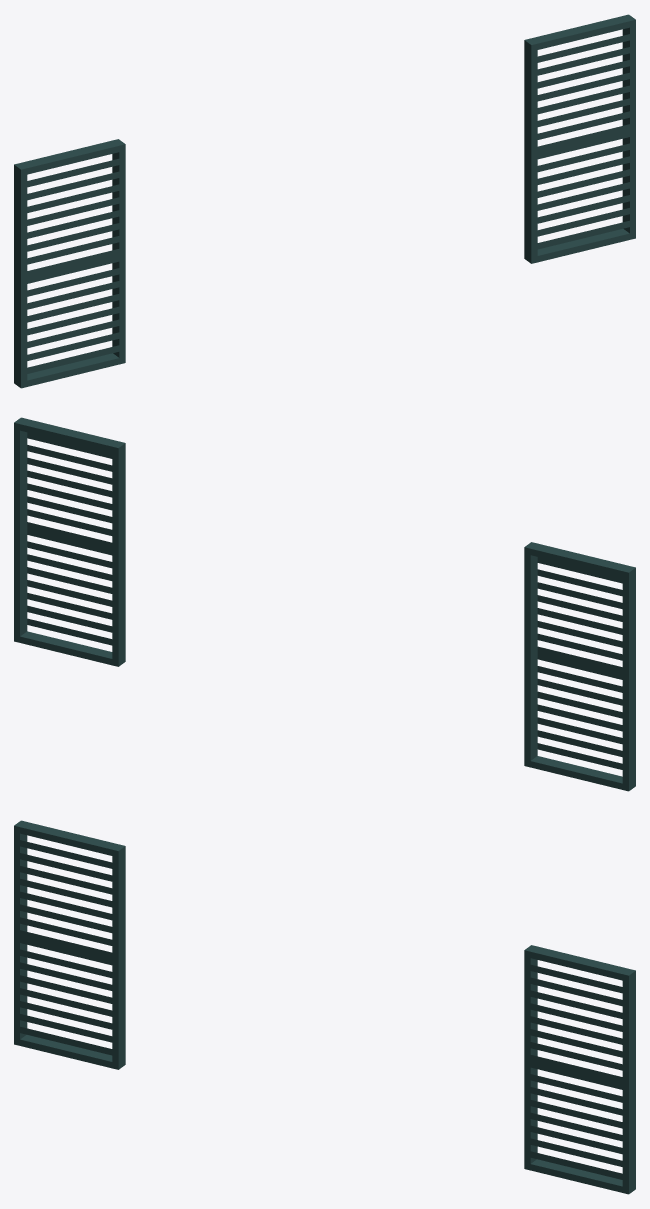
The model's file is window_shutters_2.fbx.
3 renders of one model, top to bottom at view 1: azimuth 30°, elevation 25°; view 2: azimuth 150°, elevation 25°; view 3: azimuth 330°, elevation 25°, orthographic.
Parts seen in each view (by area): view 1: Mesh1_Component_3_1 Model, Mesh2_Component_3_2 Model; view 2: Mesh1_Component_3_1 Model, Mesh2_Component_3_2 Model; view 3: Mesh1_Component_3_1 Model, Mesh2_Component_3_2 Model.
Boxes of the visible parts, box(x1,y1,x2,y2) form: Mesh1_Component_3_1 Model: box(524, 14, 635, 263); Mesh2_Component_3_2 Model: box(14, 139, 125, 388); Mesh1_Component_3_1 Model: box(14, 417, 125, 666); Mesh2_Component_3_2 Model: box(524, 542, 635, 791); Mesh1_Component_3_1 Model: box(524, 945, 635, 1194); Mesh2_Component_3_2 Model: box(14, 820, 125, 1069).
Bounding box in the file's own units: 1 × 0.34 × 0.02.
